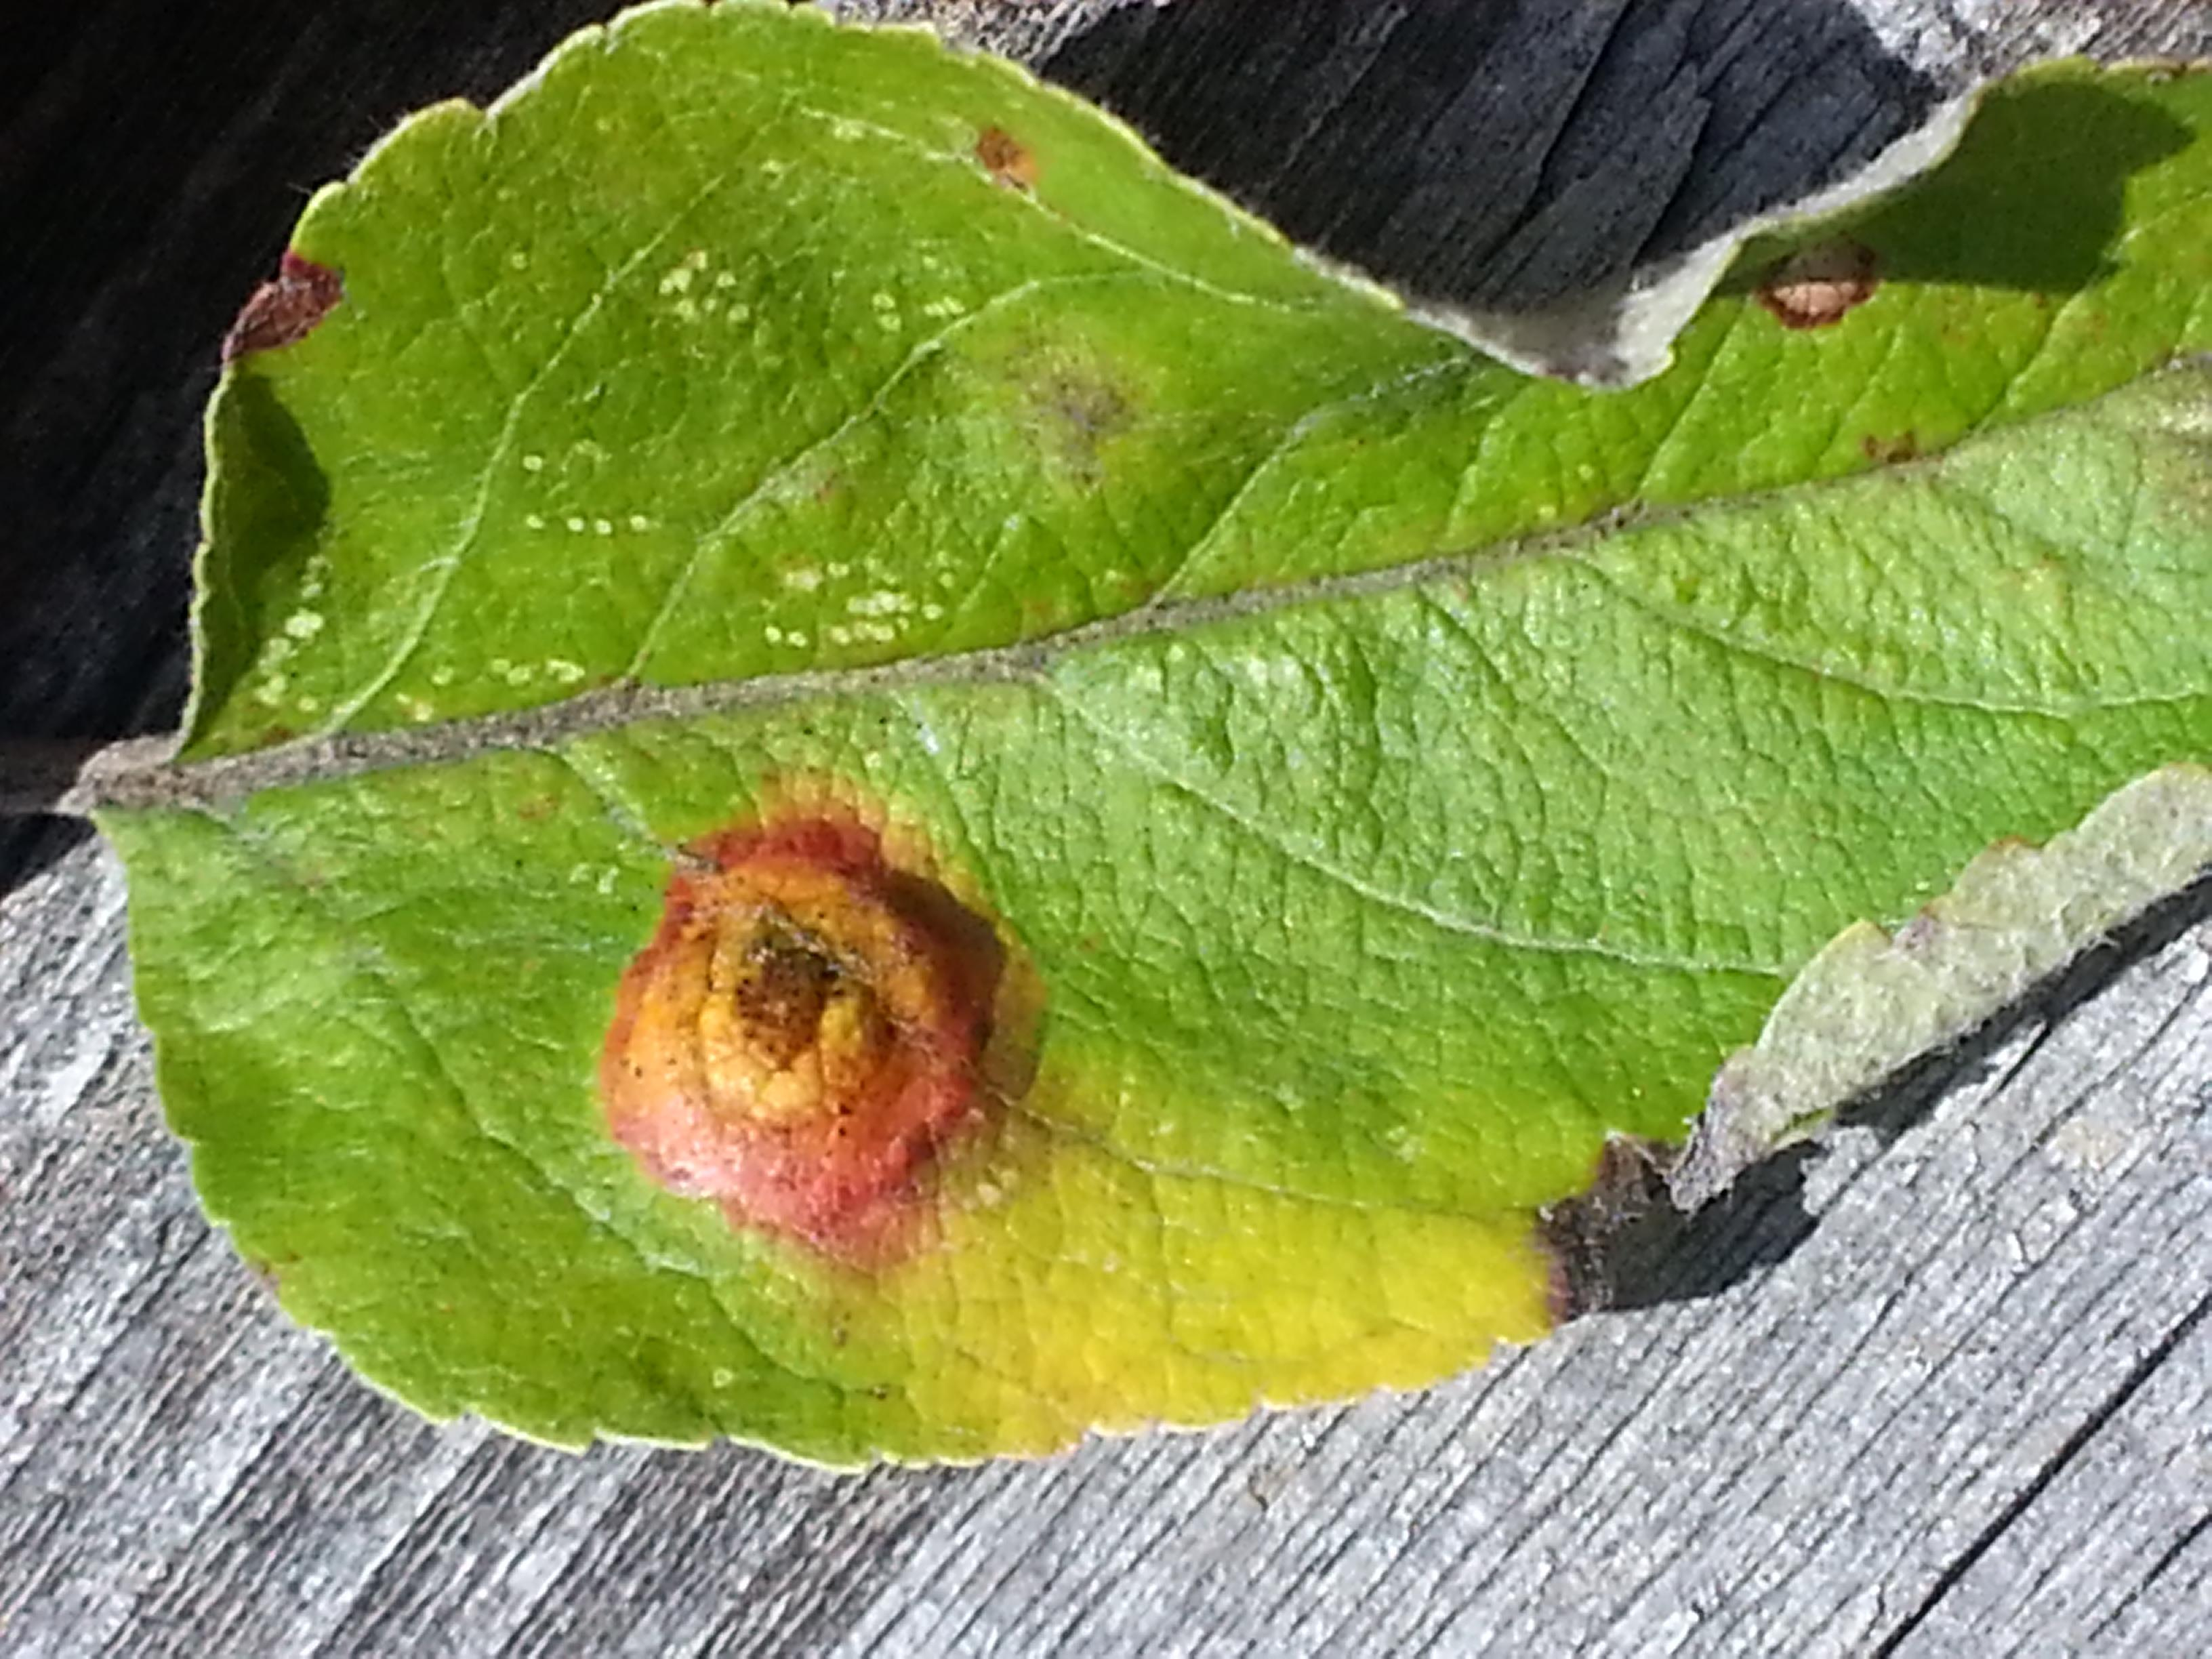Apple rust leaf: (56, 64, 2212, 1546)
